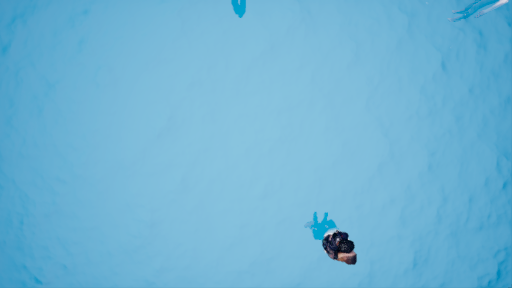person: (308, 208, 364, 270), (451, 1, 511, 27)
